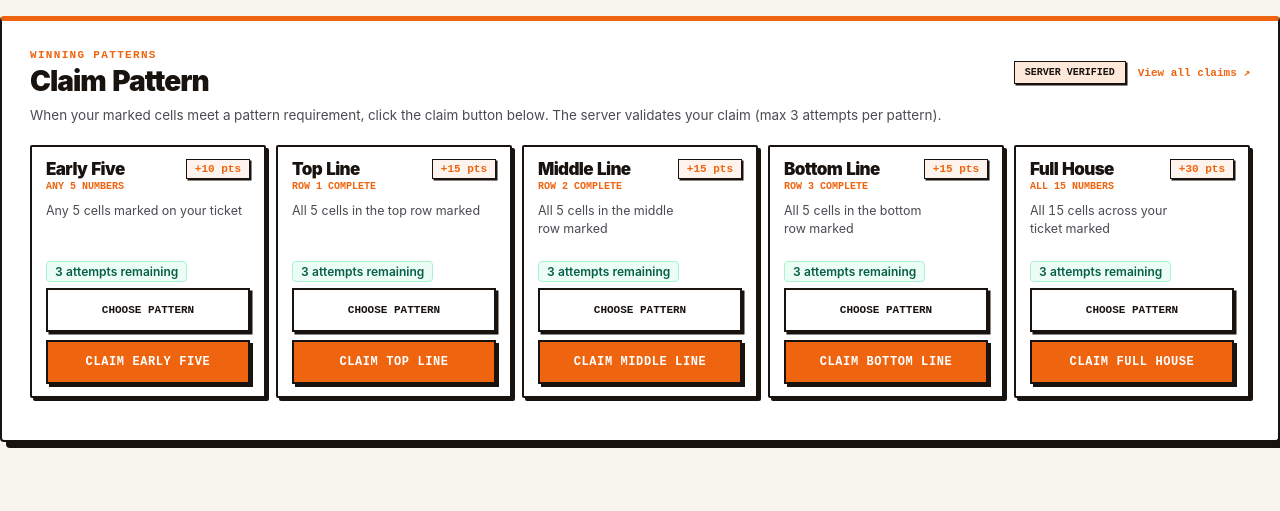
participant claims › submits Top Line directly
What coordinates should you click on to do the following:
click the button "Claim Top Line"
I would click on:
 (394, 362)
Its box is [292,340,496,384].
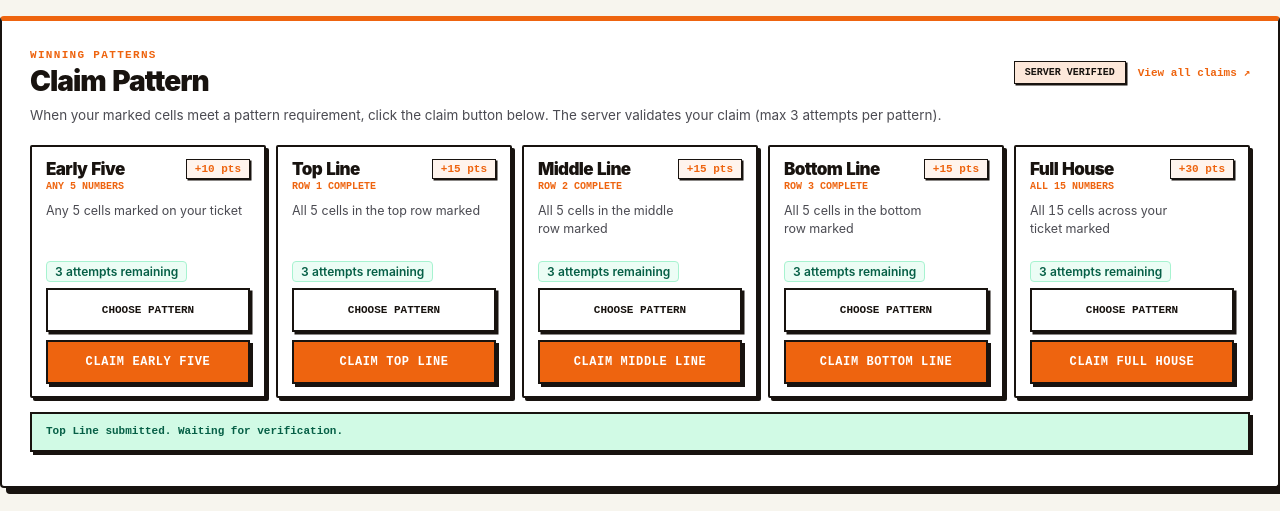
Now the message reads "Top Line submitted. Waiting for verification.", box [46,426,343,438]
